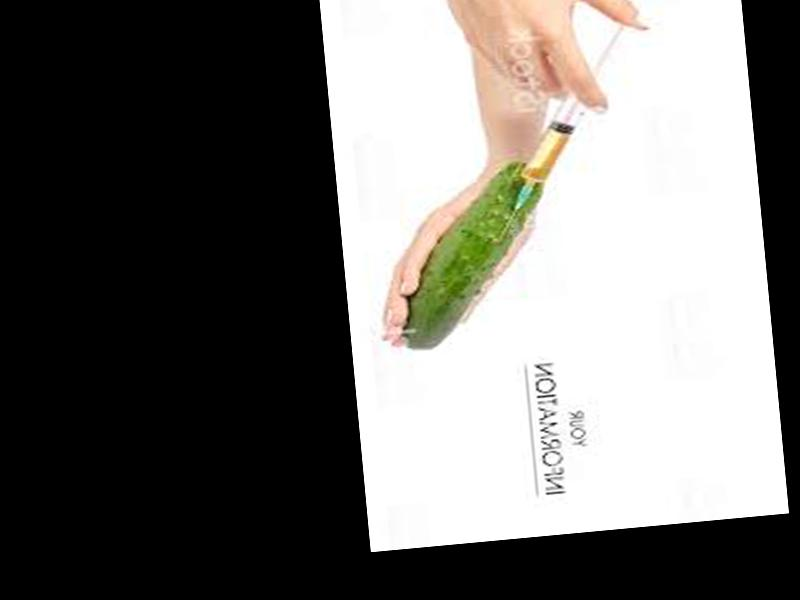Cucumber: (390, 160, 561, 349)
